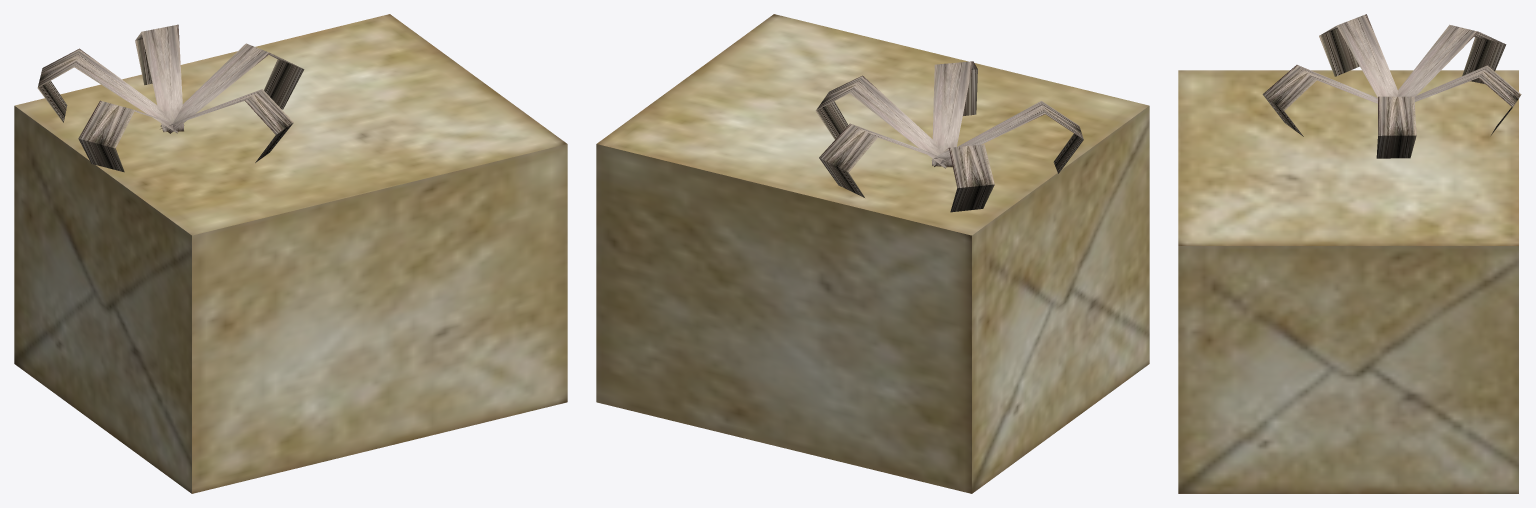
File: pir_m_prp_hol_decoGift04_winter08.fbx
3 renders of one model, left to right at view 1: azimuth 30°, elevation 25°; view 2: azimuth 150°, elevation 25°; view 3: azimuth 270°, elevation 25°, orthographic. The views are drawn at different scales.
Visible parts, largest first — view 1: giftbox, ribbon, ribbon57, ribbon56, ribbon55, ribbon54; view 2: giftbox, ribbon54, ribbon, ribbon56, ribbon57, ribbon55; view 3: giftbox, ribbon55, ribbon56, ribbon, ribbon54, ribbon57.
Part boxes in pixels (x1,y1,x2,y2): giftbox: [14, 14, 567, 493]; ribbon: [160, 43, 304, 133]; ribbon57: [135, 24, 184, 132]; ribbon56: [37, 48, 184, 133]; ribbon55: [78, 100, 181, 172]; ribbon54: [160, 89, 293, 162]; giftbox: [596, 14, 1149, 493]; ribbon54: [932, 61, 977, 167]; ribbon: [816, 75, 947, 168]; ribbon56: [933, 144, 994, 212]; ribbon57: [819, 123, 951, 197]; ribbon55: [934, 101, 1083, 173]; giftbox: [1178, 70, 1518, 493]; ribbon55: [1319, 14, 1398, 97]; ribbon56: [1397, 24, 1506, 96]; ribbon: [1376, 96, 1416, 158]; ribbon54: [1262, 65, 1377, 136]; ribbon57: [1414, 65, 1521, 135].
Size of the model in its own units: 156 by 119 by 121.
Materials: 1 (1 with a texture image).
